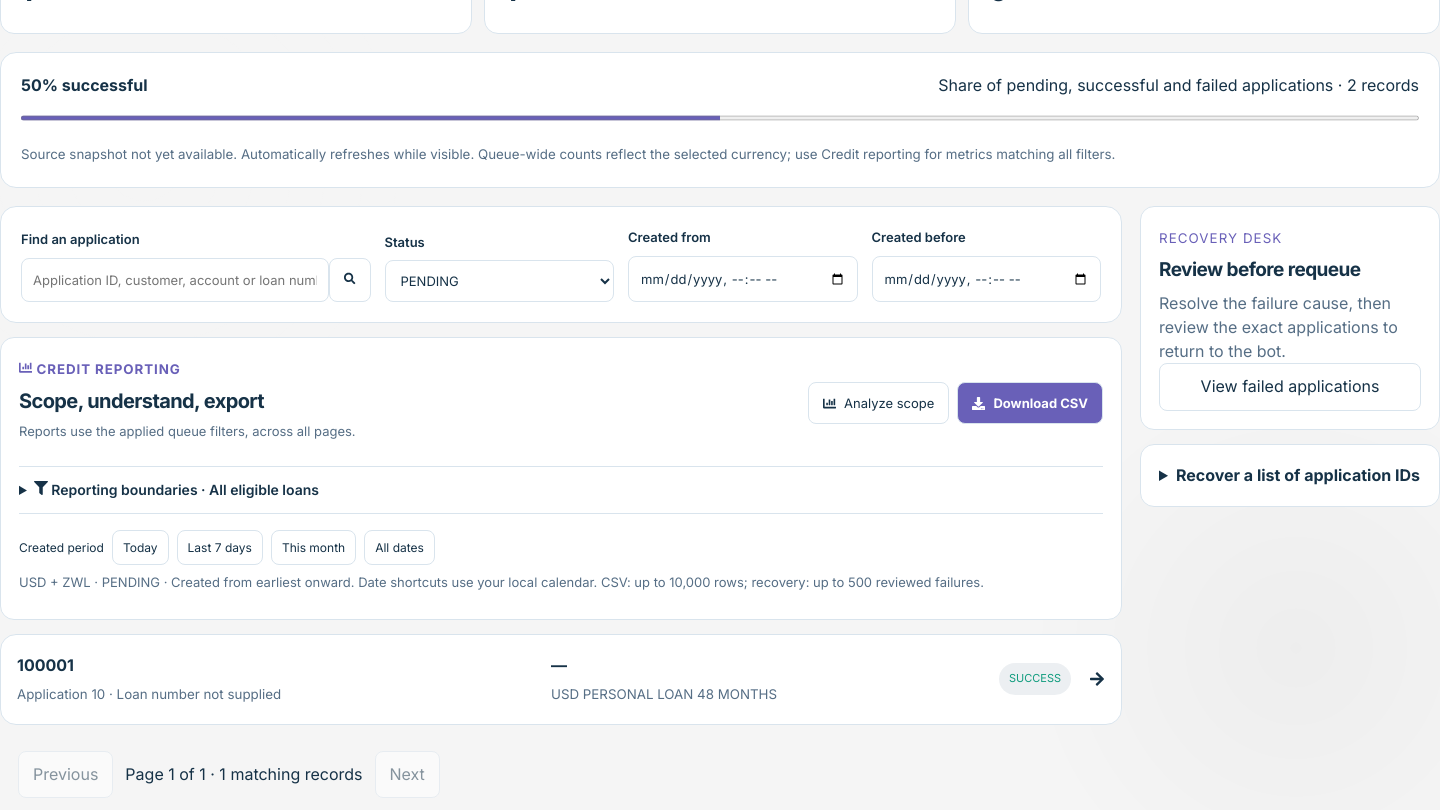
Scenario: personal details use a right drawer and unrelated workflow stages do not affect progress
(page scrolled)
Check: the text "50% successful" is shown, box [21,73,148,99]
Click the text "100001".
click(46, 665)  # box [17,655,74,675]
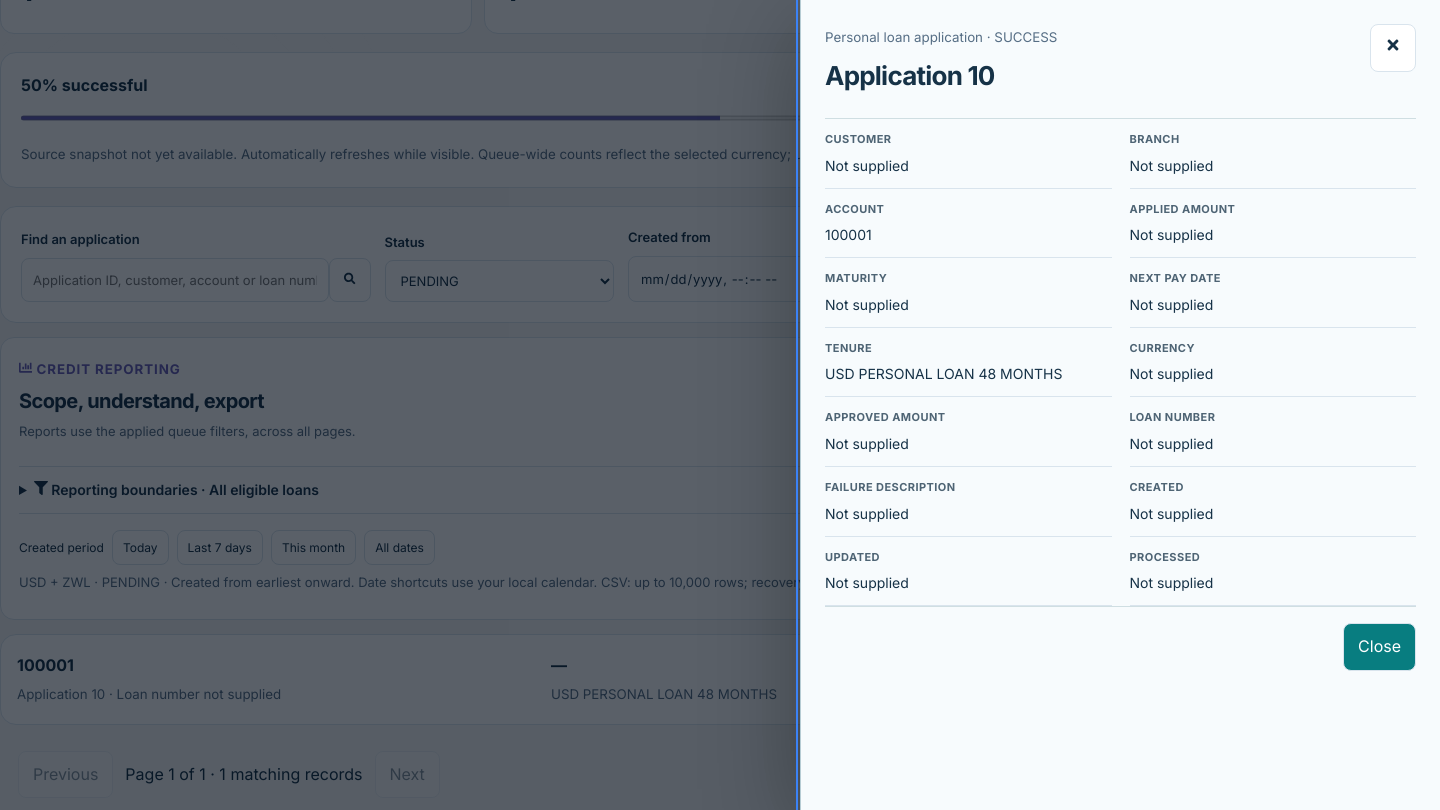
Check: the button named "Close application" is shown, box [1370,24,1416,72]
Press Escape in the dialog, box [800,0,1439,809]
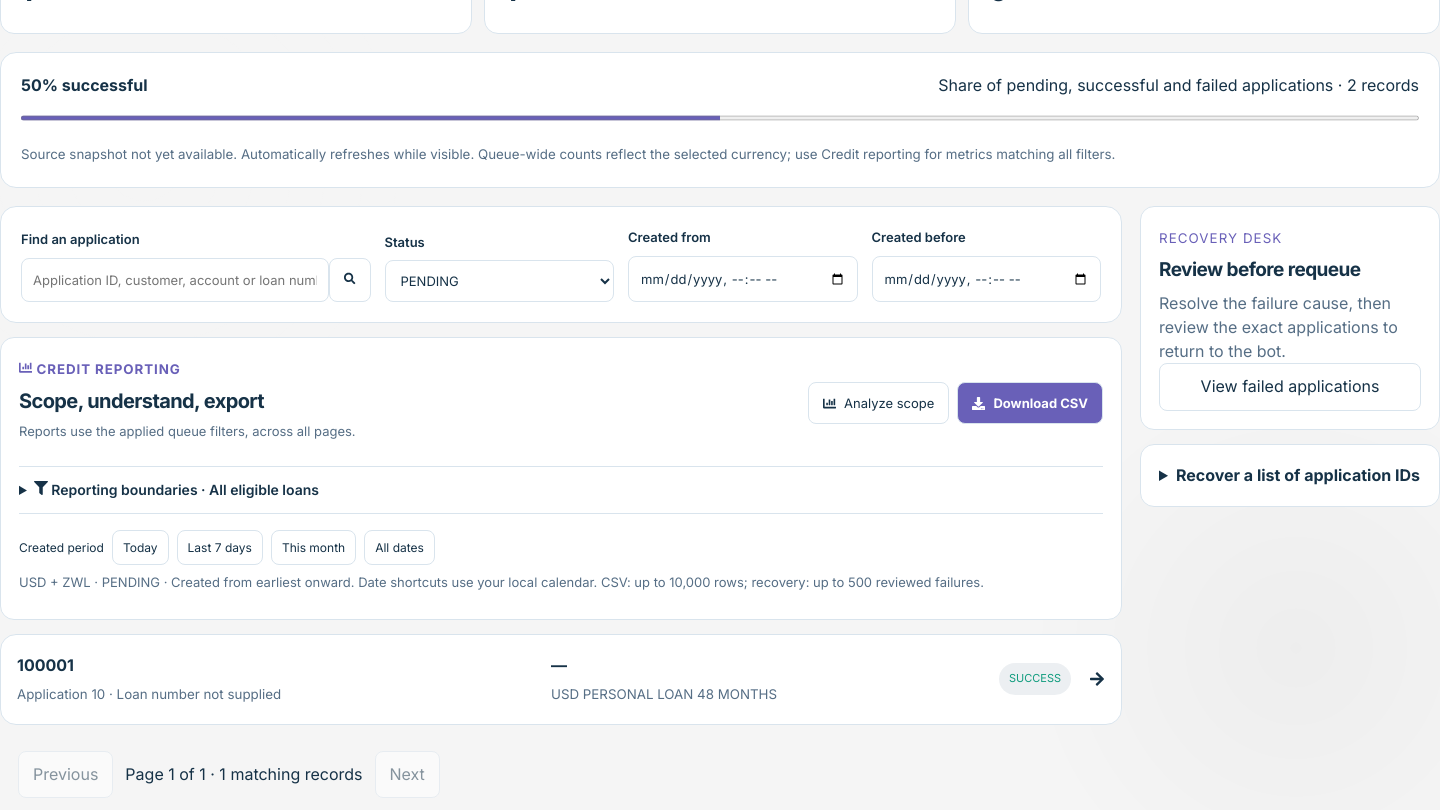
Check: the dialog is gone
